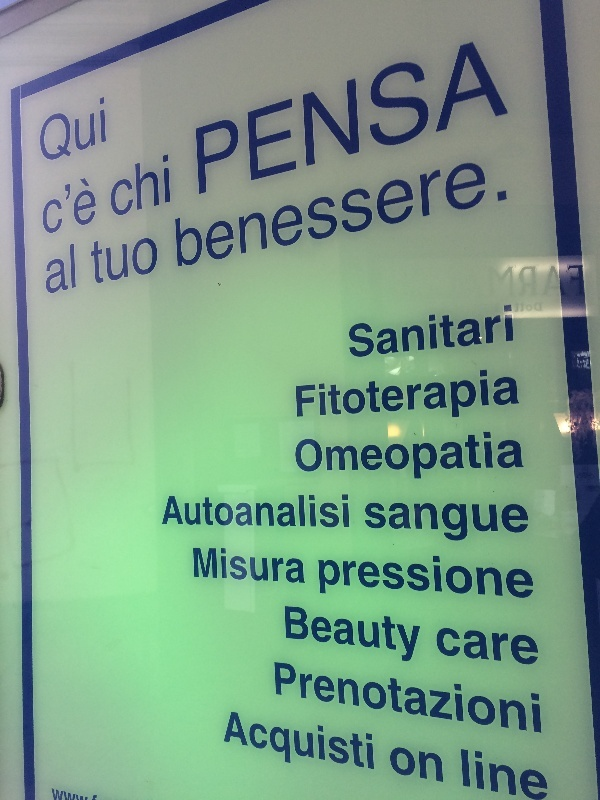text: (209, 43, 224, 199), (225, 43, 240, 199), (241, 43, 256, 199), (257, 43, 272, 199), (273, 43, 288, 199), (289, 43, 304, 199), (305, 43, 320, 199), (321, 43, 336, 199), (337, 43, 352, 199), (353, 43, 368, 199), (369, 43, 384, 199), (385, 43, 400, 199), (401, 43, 416, 199), (417, 43, 432, 199), (433, 43, 448, 199), (449, 43, 464, 199), (465, 43, 480, 199), (481, 43, 496, 199), (497, 43, 511, 199), (196, 43, 208, 199), (177, 155, 192, 277), (193, 155, 208, 277), (209, 155, 224, 277), (225, 155, 240, 277), (241, 155, 256, 277), (257, 155, 272, 277), (273, 155, 288, 277), (289, 155, 304, 277), (305, 155, 320, 277), (321, 155, 336, 277), (337, 155, 352, 277), (353, 155, 368, 277), (369, 155, 384, 277), (385, 155, 400, 277), (401, 155, 416, 277), (417, 155, 432, 277), (433, 155, 448, 277), (449, 155, 464, 277), (465, 155, 480, 277), (481, 155, 496, 277), (497, 155, 509, 277), (49, 94, 64, 172), (65, 94, 80, 172), (81, 94, 96, 172), (273, 664, 288, 740), (289, 664, 304, 740), (305, 664, 320, 740), (321, 664, 336, 740), (337, 664, 352, 740), (353, 664, 368, 740), (369, 664, 384, 740), (385, 664, 400, 740), (401, 664, 416, 740), (417, 664, 432, 740), (433, 664, 448, 740), (449, 664, 464, 740), (465, 664, 480, 740), (481, 664, 496, 740), (497, 664, 512, 740), (513, 664, 528, 740), (529, 664, 544, 740), (81, 172, 97, 242), (113, 150, 128, 222), (129, 150, 144, 222), (145, 150, 160, 222), (49, 172, 64, 242), (65, 172, 80, 242), (241, 711, 256, 781), (257, 711, 272, 781), (273, 711, 288, 781), (289, 711, 304, 781), (305, 711, 320, 781), (321, 711, 336, 781), (337, 711, 352, 781), (353, 711, 368, 781), (289, 606, 304, 669), (305, 606, 320, 669), (321, 606, 336, 669), (337, 606, 352, 669), (353, 606, 368, 669), (369, 606, 384, 669), (385, 606, 400, 669), (401, 606, 416, 669), (97, 227, 112, 289), (113, 227, 128, 289), (129, 227, 144, 289), (353, 302, 368, 361), (369, 302, 384, 361), (385, 302, 400, 361), (401, 302, 416, 361), (417, 302, 432, 361), (433, 302, 448, 361), (449, 302, 464, 361), (465, 302, 480, 361), (481, 302, 496, 361), (497, 302, 512, 361), (305, 366, 320, 425), (321, 366, 336, 425), (337, 366, 352, 425), (353, 366, 368, 425), (369, 366, 384, 425), (385, 366, 400, 425), (401, 366, 416, 425), (417, 366, 432, 425), (433, 366, 448, 425), (449, 366, 464, 425), (465, 366, 480, 425), (481, 366, 496, 425), (497, 366, 512, 425), (97, 94, 108, 172), (145, 227, 158, 289), (49, 244, 64, 297), (321, 553, 336, 605), (337, 553, 352, 605), (353, 553, 368, 605), (369, 553, 384, 605), (385, 553, 400, 605), (401, 553, 416, 605), (417, 553, 432, 605), (433, 553, 448, 605), (449, 553, 464, 605), (465, 553, 480, 605), (481, 553, 496, 605), (497, 553, 512, 605), (513, 553, 528, 605), (465, 748, 480, 800), (481, 748, 496, 800), (497, 748, 512, 800), (513, 748, 528, 800), (529, 748, 544, 800), (305, 433, 320, 483), (321, 433, 336, 483), (337, 433, 352, 483), (353, 433, 368, 483), (369, 433, 384, 483), (385, 433, 400, 483), (401, 433, 416, 483), (417, 433, 432, 483), (433, 433, 448, 483), (449, 433, 464, 483), (465, 433, 480, 483), (481, 433, 496, 483), (497, 433, 512, 483), (161, 150, 171, 222), (209, 545, 224, 589), (225, 545, 240, 589), (241, 545, 256, 589), (257, 545, 272, 589), (273, 545, 288, 589), (289, 545, 304, 589), (449, 625, 464, 669), (465, 625, 480, 669), (481, 625, 496, 669), (497, 625, 512, 669), (513, 625, 528, 669), (513, 433, 526, 483), (65, 244, 77, 297), (369, 502, 384, 544), (385, 502, 400, 544), (401, 502, 416, 544), (417, 502, 432, 544), (433, 502, 448, 544), (449, 502, 464, 544), (465, 502, 480, 544), (481, 502, 496, 544), (497, 502, 512, 544), (513, 502, 528, 544), (231, 711, 240, 781), (40, 94, 48, 172), (194, 545, 208, 589), (401, 744, 416, 784), (417, 744, 432, 784), (497, 264, 512, 304), (513, 264, 528, 304), (529, 264, 544, 304), (545, 264, 560, 304), (561, 264, 576, 304), (177, 494, 192, 531), (193, 494, 208, 531), (209, 494, 224, 531), (225, 494, 240, 531), (241, 494, 256, 531), (257, 494, 272, 531), (273, 494, 288, 531), (289, 494, 304, 531), (305, 494, 320, 531), (321, 494, 336, 531), (337, 494, 351, 531), (369, 711, 376, 781), (529, 625, 540, 669), (433, 744, 445, 784), (296, 366, 304, 425), (513, 366, 521, 425), (438, 625, 448, 669), (42, 172, 48, 242), (296, 433, 304, 483), (577, 264, 587, 304), (417, 606, 422, 669), (529, 553, 535, 605), (91, 227, 96, 289), (168, 494, 176, 531), (393, 744, 400, 784), (545, 748, 550, 800), (284, 606, 288, 669), (490, 264, 496, 304), (460, 748, 464, 800), (514, 301, 528, 315), (529, 301, 543, 315), (513, 302, 516, 361), (365, 502, 368, 544), (175, 155, 176, 277), (350, 302, 352, 361), (46, 244, 48, 297), (305, 545, 307, 589), (529, 502, 531, 544), (111, 150, 112, 222), (319, 553, 320, 605)
